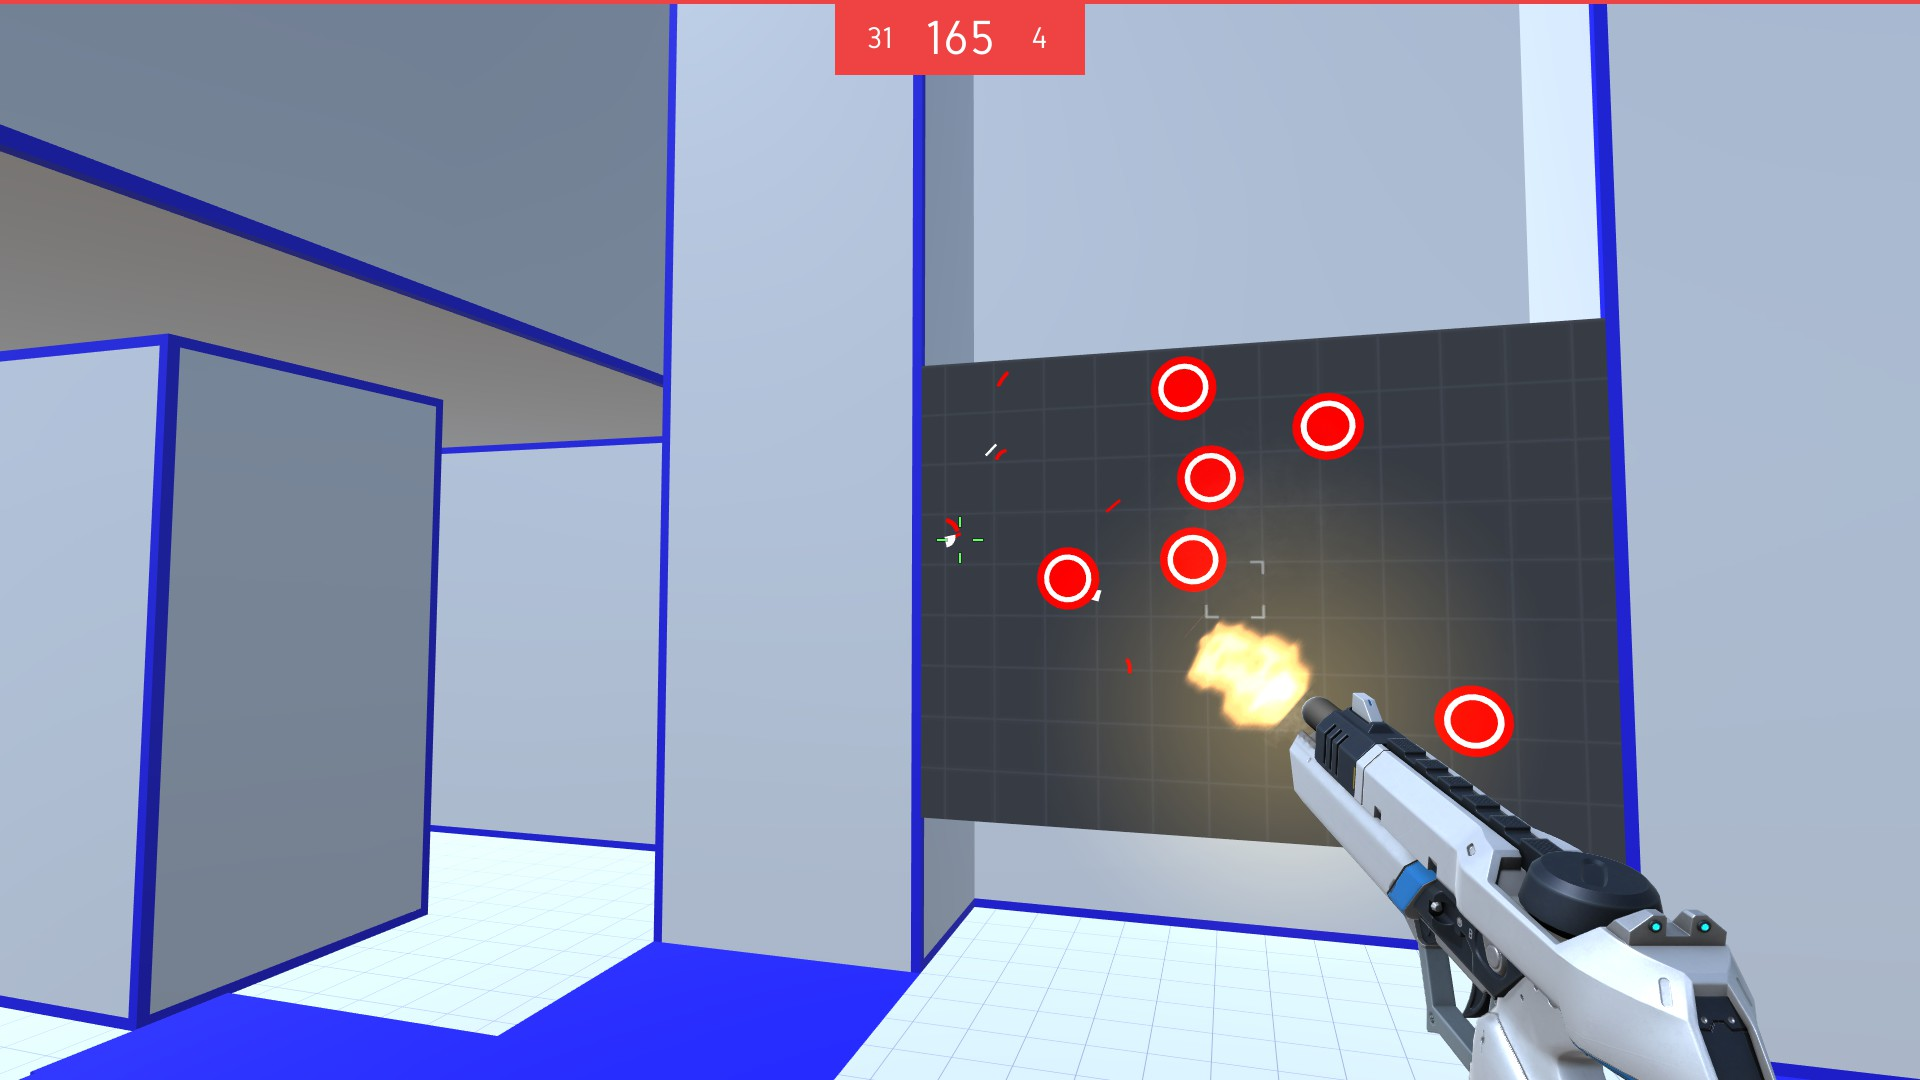target: (1429, 683, 1516, 760), (1288, 390, 1365, 465), (1149, 352, 1218, 426), (1031, 545, 1108, 611), (1178, 443, 1247, 513), (1155, 526, 1226, 593)
